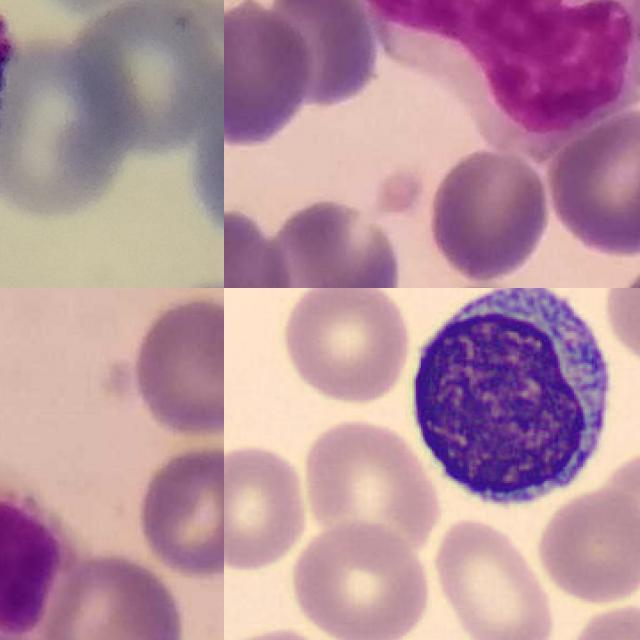Lymphocyte: (394, 288, 623, 519)
Monocyte: (356, 0, 640, 146)
RBC: (299, 414, 445, 560), (287, 519, 435, 640), (430, 513, 560, 640), (277, 288, 412, 407), (533, 484, 640, 604), (224, 438, 312, 574), (593, 445, 640, 574)
